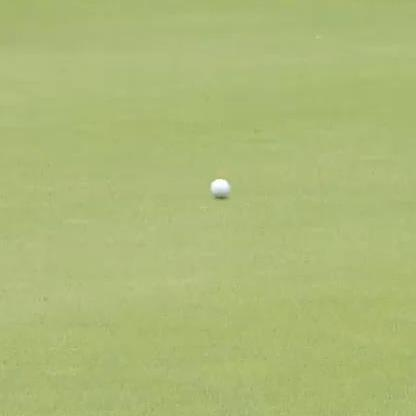golfball: (206, 175, 230, 198)
